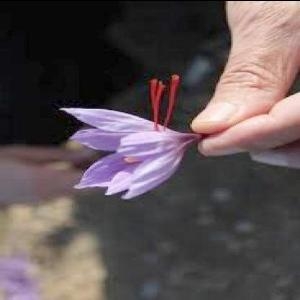Saffron: (61, 97, 206, 198)
